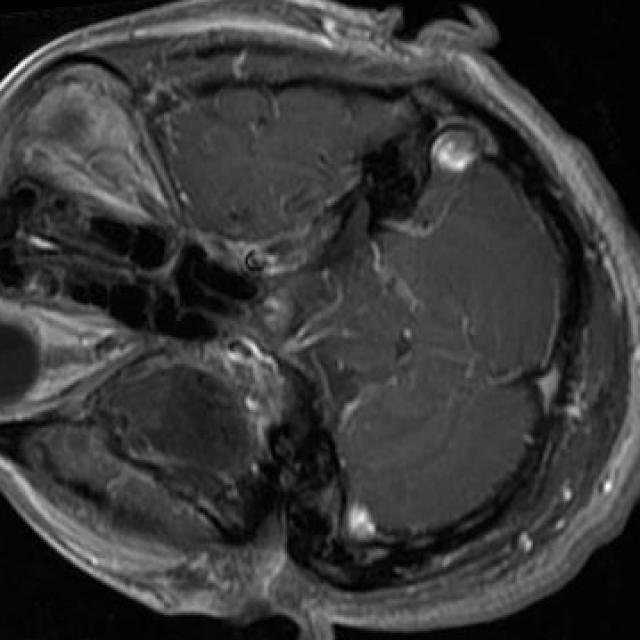glioma: (98, 364, 258, 503)
